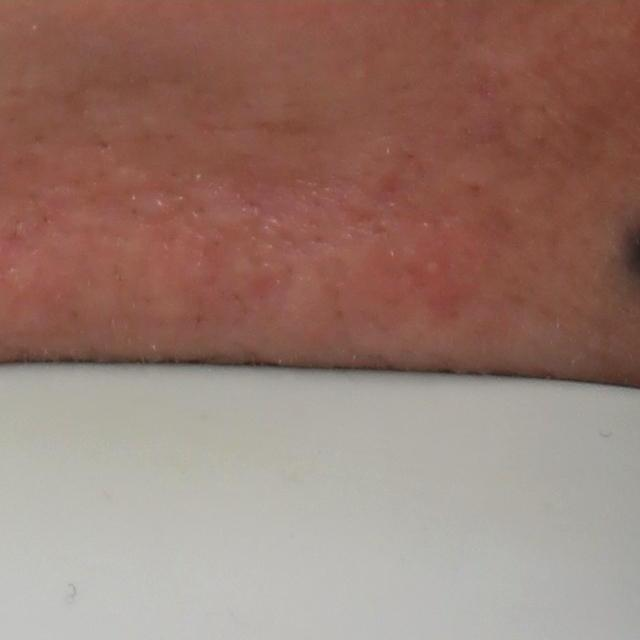hypertrophic_scar: (192, 188, 263, 240)
